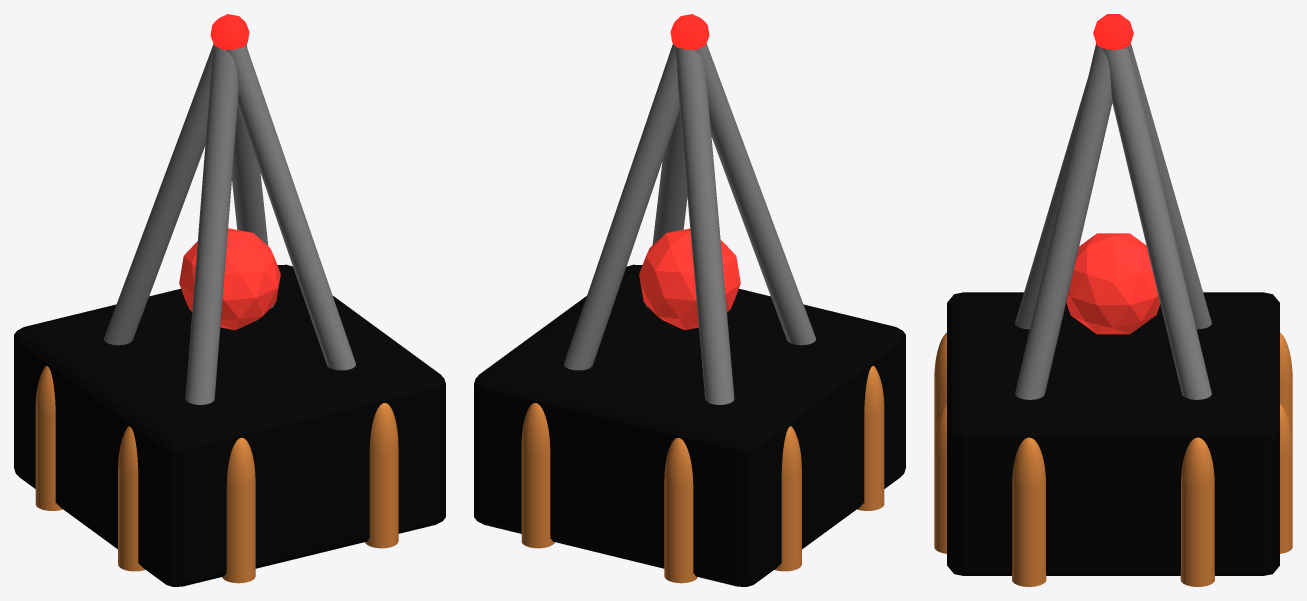
The model's file is SingleFireTurret.fbx.
3 views of the same model, side by side, from view 1: azimuth 30°, elevation 25°; view 2: azimuth 150°, elevation 25°; view 3: azimuth 270°, elevation 25° (orthographic). The views are drawn at different scales.
Parts seen in each view (by area): view 1: Cylinder.001, Icosphere; view 2: Cylinder.001, Icosphere; view 3: Cylinder.001, Icosphere.
Boxes of the visible parts, x1=… form: Cylinder.001: x1=14, y1=14, x2=445, y2=586; Icosphere: x1=179, y1=228, x2=280, y2=330; Cylinder.001: x1=474, y1=14, x2=905, y2=586; Icosphere: x1=639, y1=228, x2=740, y2=330; Cylinder.001: x1=934, y1=14, x2=1292, y2=586; Icosphere: x1=1066, y1=233, x2=1160, y2=334.
Bounding box in the file's own units: 428 × 654 × 428.
